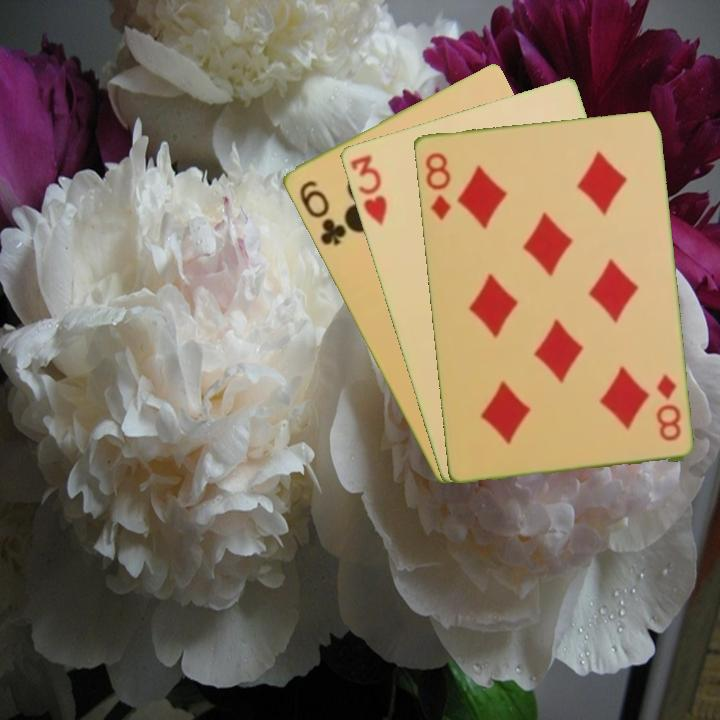3h: (346, 151, 390, 228)
6c: (295, 176, 349, 249)
8d: (421, 148, 454, 222), (652, 370, 684, 444)
